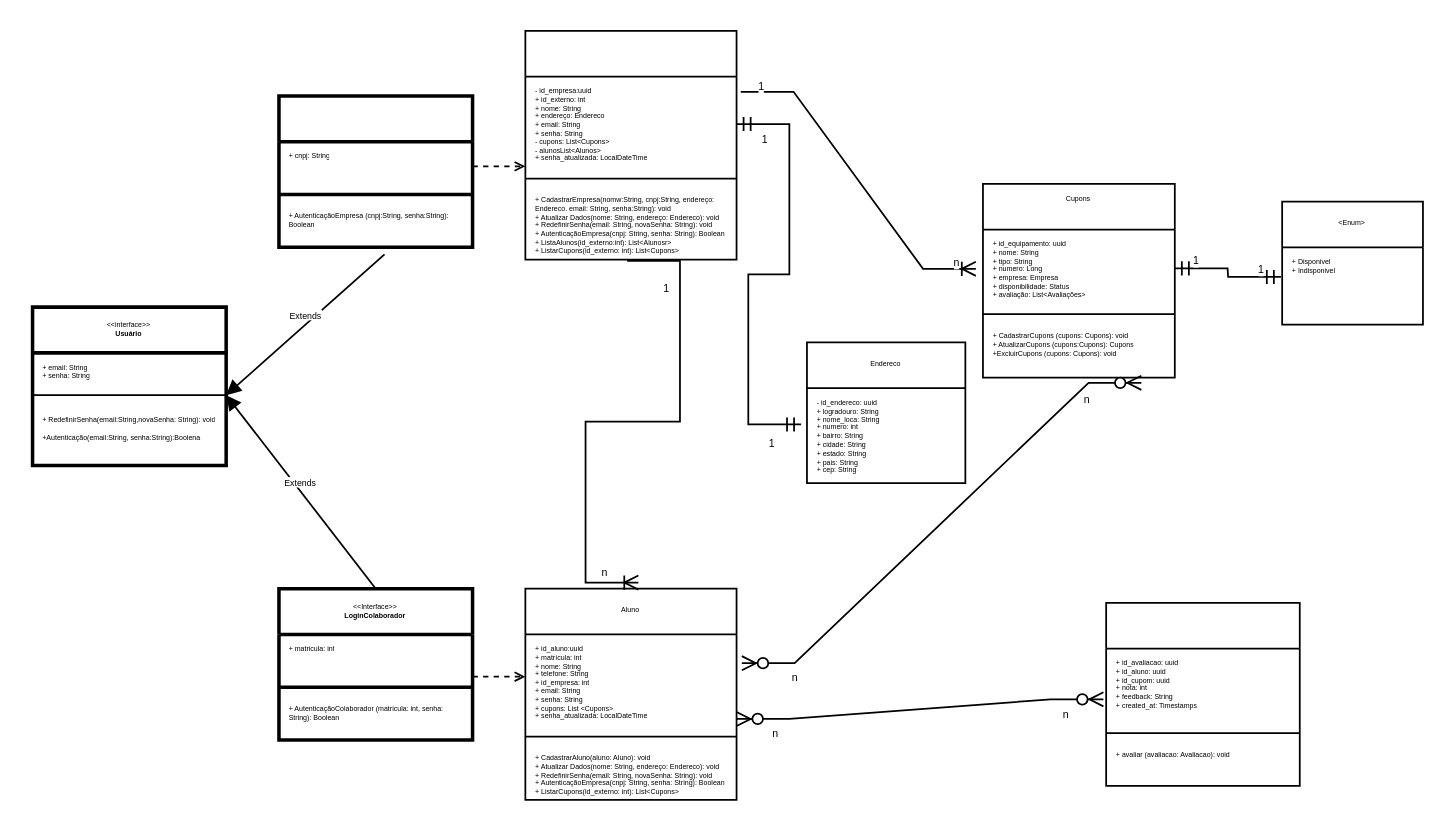
Some shapes in this 1454 by 836 pixel diagram are drawn without their labels. Each missing label, with the box of its shape:
<<Interface>> LoginEmpresa: (276, 93, 473, 248)
Avaliação: (1104, 601, 1300, 786)
Faculdade: (524, 29, 737, 260)
